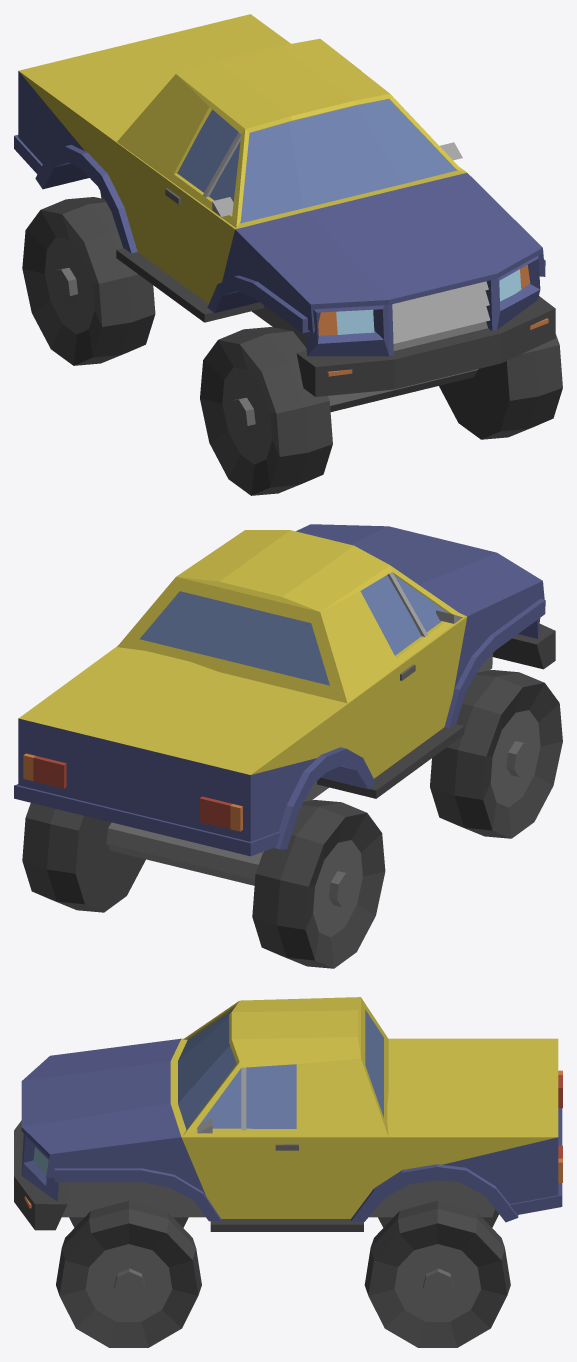
Rendered from transport_jeep_009.fbx.
3 views of the same model, one above another, from view 1: azimuth 30°, elevation 25°; view 2: azimuth 150°, elevation 25°; view 3: azimuth 270°, elevation 25° (orthographic). The views are drawn at different scales.
Parts seen in each view (by area): view 1: transport_jeep_009; view 2: transport_jeep_009; view 3: transport_jeep_009.
Part boxes in pixels (box(x1,y1,x2,y2)): transport_jeep_009: box(14, 14, 562, 495); transport_jeep_009: box(14, 524, 562, 968); transport_jeep_009: box(14, 997, 562, 1347).
Size of the model in its own units: 192 by 197 by 368.
